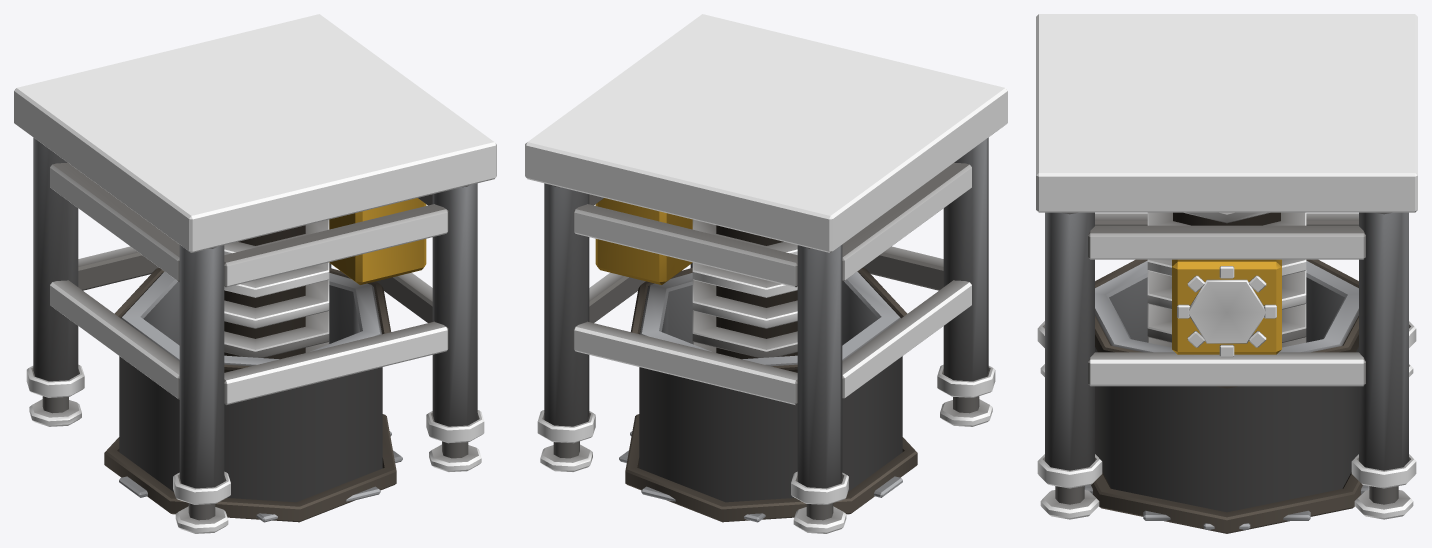
File: R4M_HoverEngine_LOD1.fbx
3 renders of one model, left to right at view 1: azimuth 30°, elevation 25°; view 2: azimuth 150°, elevation 25°; view 3: azimuth 270°, elevation 25°, orthographic. The views are drawn at different scales.
Parts seen in each view (by area): view 1: R4M_HoverEngine_LOD1; view 2: R4M_HoverEngine_LOD1; view 3: R4M_HoverEngine_LOD1.
Part boxes in pixels (left/top/right/bottom): R4M_HoverEngine_LOD1: left=14, top=14, right=496, bottom=533; R4M_HoverEngine_LOD1: left=525, top=14, right=1007, bottom=533; R4M_HoverEngine_LOD1: left=1036, top=14, right=1417, bottom=533.
Bounding box in the file's own units: 0.52 × 0.56 × 0.52.
